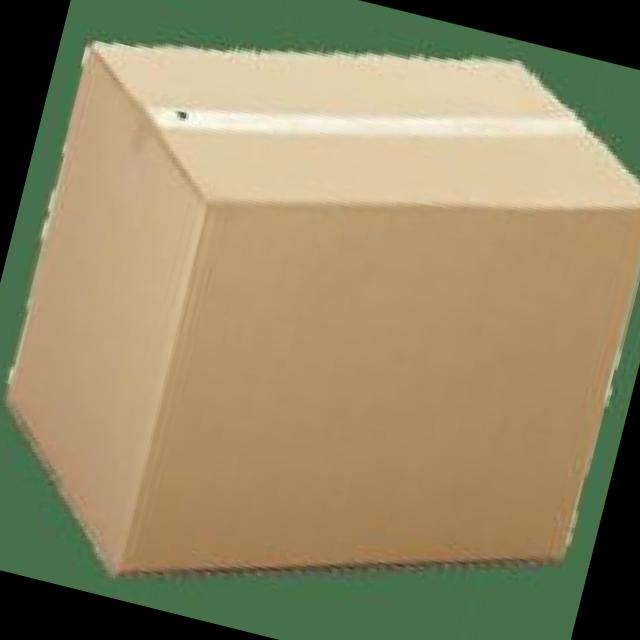box: (4, 40, 640, 581)
